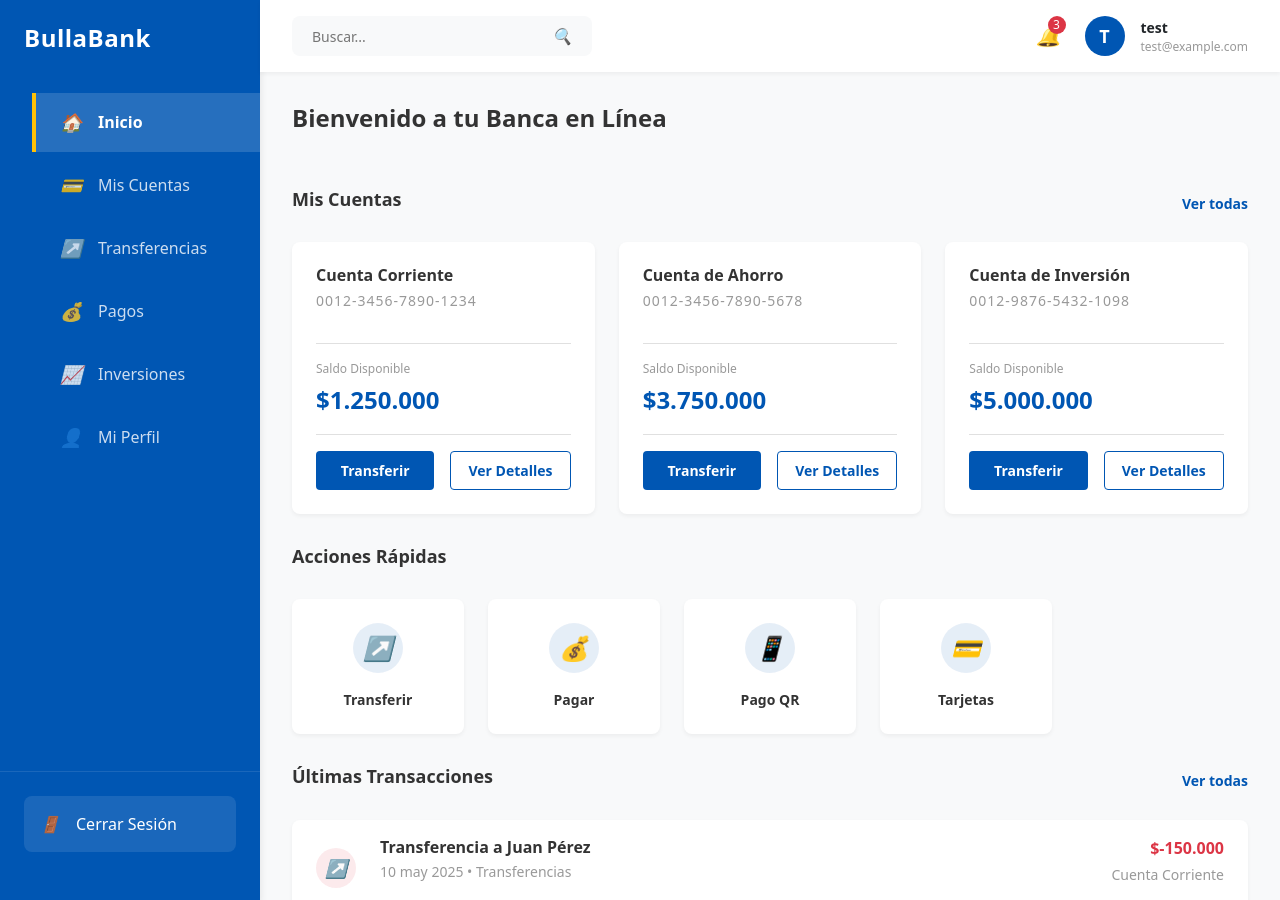
Test case: Dashboard › should handle logout error
Step 1. Click the button "Cerrar Sesión" → (130, 824), box top-left (24, 796), bottom-right (236, 852)
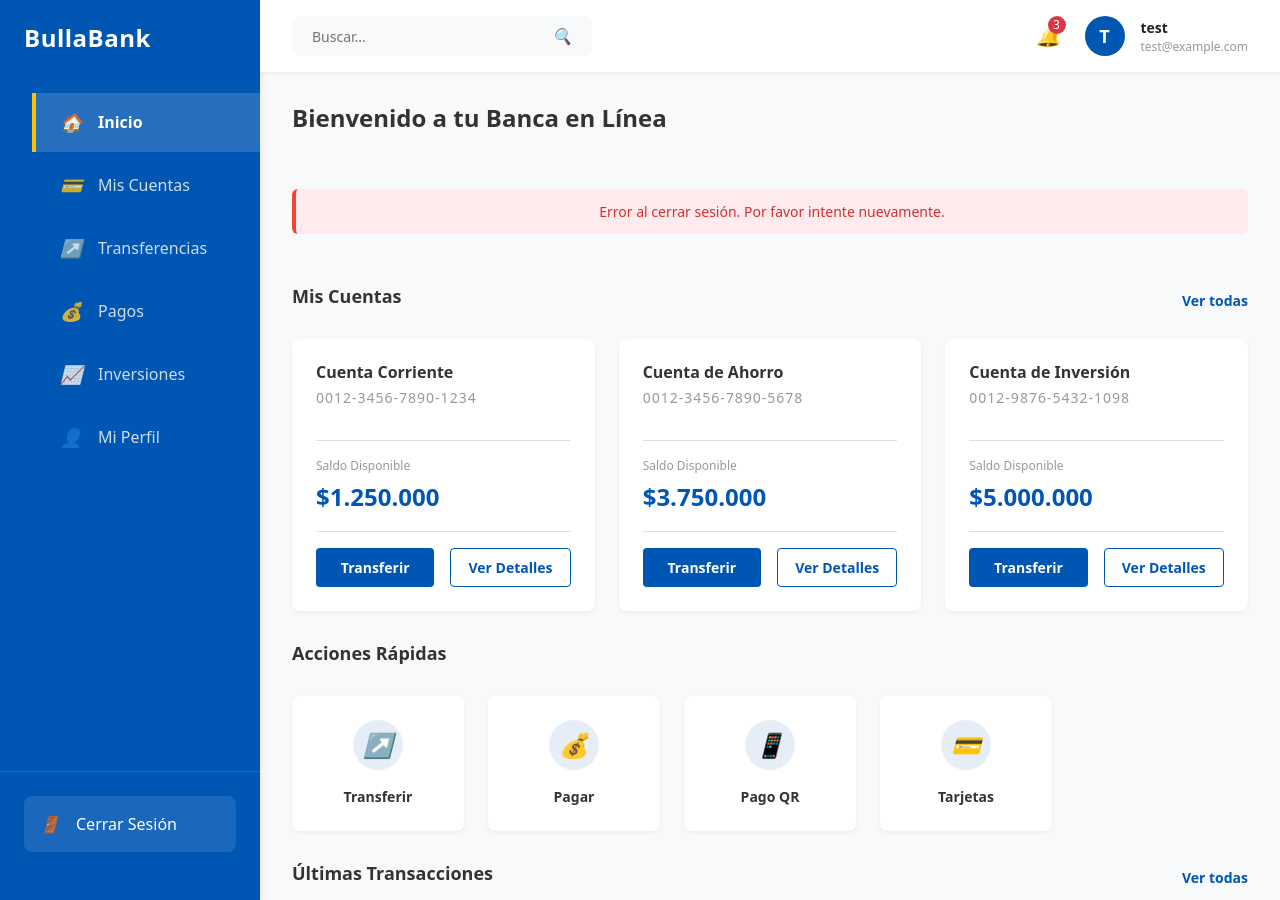
Check: the text "Error al cerrar sesión. Por favor intente nuevamente." is shown, box top-left (292, 189), bottom-right (1248, 234)
